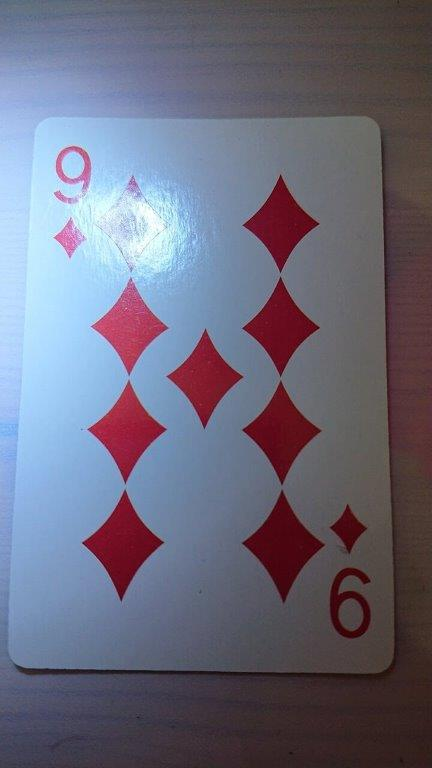9D: (6, 114, 397, 677)
